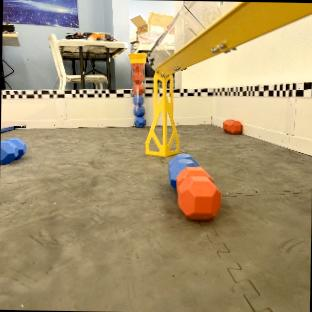V5_BLUE: (169, 153, 198, 187), (0, 137, 25, 163), (133, 93, 145, 126)
V5_RED: (175, 164, 220, 219), (129, 52, 146, 126), (223, 118, 242, 134)
